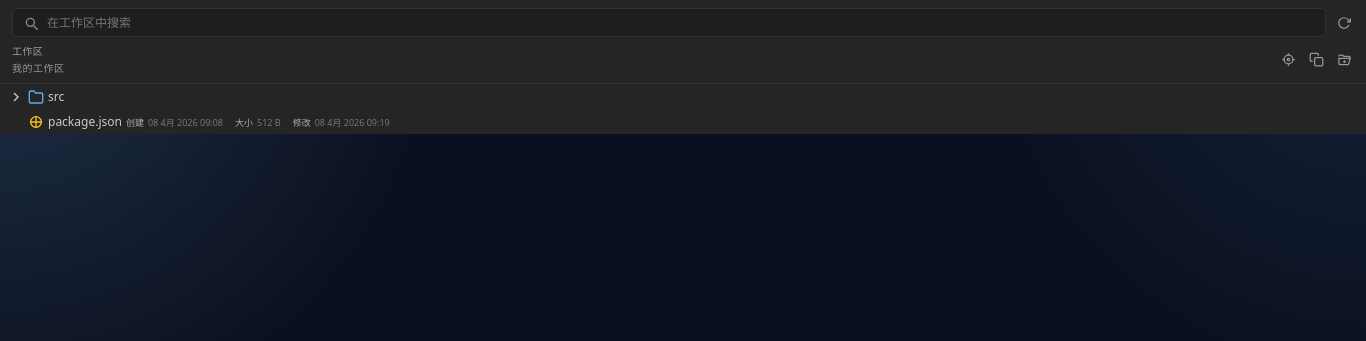
FileTree.vue › 右键菜单 › 点击"文件详情"应发射 details 事件并关闭菜单
Step 1. Right-click the list item with class "file-tree-item" showing "src" → (36, 96), box 8,88 -> 64,105
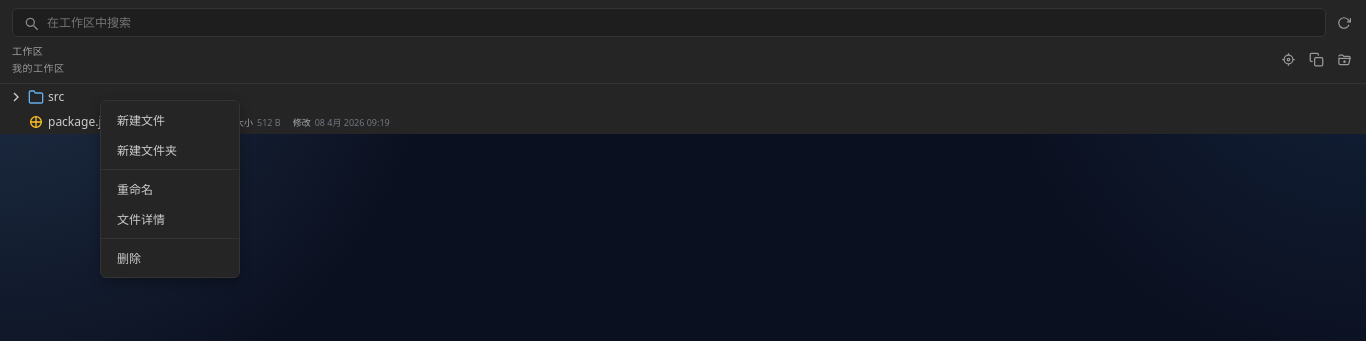
Step 2. Click the text with test id "file-tree-details" → click(141, 220), box 117,211 -> 165,228
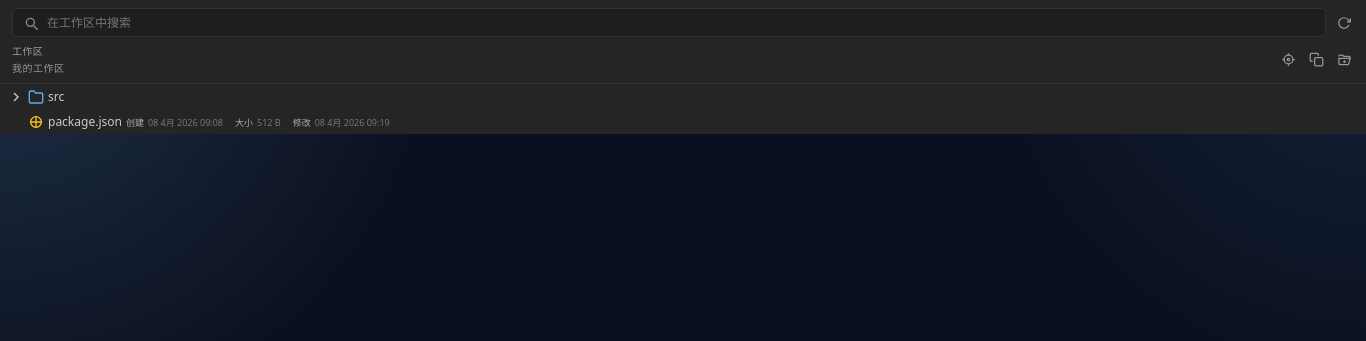
Expected: the element with class "context-menu" is gone
